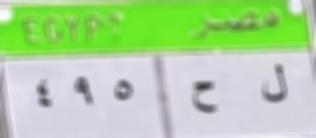4: (33, 73, 58, 111)
5: (112, 72, 148, 105)
7aa: (186, 73, 225, 117)
9: (70, 70, 95, 109)
laam: (254, 60, 292, 109)
